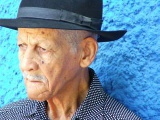male: (6, 27, 91, 104)
